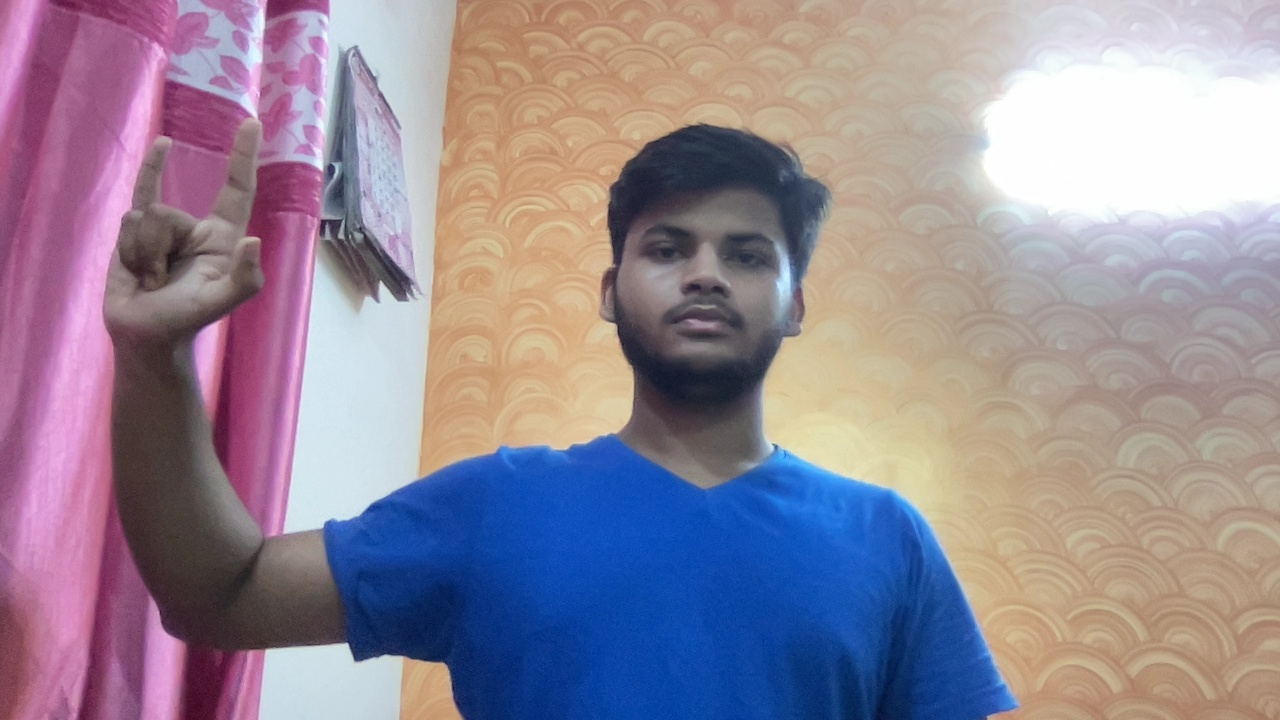iloveyou: (116, 121, 287, 367)
